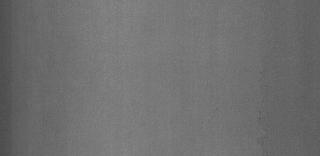silk spot: (248, 35, 280, 144)
